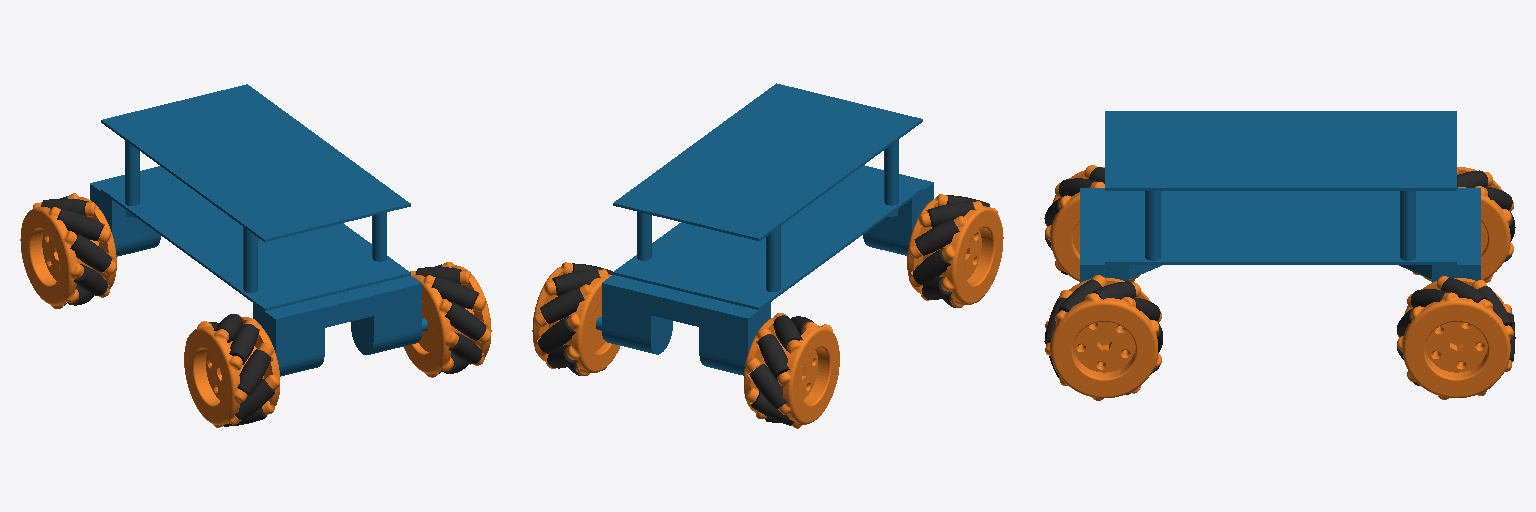
--- What the picture shows (computed from the rendered views, not written in the file) ---
The picture shows the robot from 3 angles, left to right: view 1: azimuth 30°, elevation 25°; view 2: azimuth 150°, elevation 25°; view 3: azimuth 270°, elevation 25°; orthographic projection.
Model examplo with 42 links and 41 joints (40 continuous, 1 fixed), rooted at base_link, posed every joint at zero.
Visible links, largest first — view 1: chassis_link, front_left_mecanum_link, rear_left_mecanum_link, rear_right_mecanum_link, rear_left_roller_4, rear_right_roller_4, front_left_roller_5, front_left_roller_6, rear_right_roller_3, rear_left_roller_5, rear_left_roller_3, front_left_roller_4 (+1 smaller); view 2: chassis_link, front_left_mecanum_link, rear_left_mecanum_link, front_right_mecanum_link, rear_left_roller_1, front_right_roller_8, front_left_roller_0, front_left_roller_8, front_right_roller_0, rear_left_roller_0, front_right_roller_7, rear_left_roller_2 (+1 smaller); view 3: chassis_link, front_right_mecanum_link, rear_right_mecanum_link, rear_left_mecanum_link, front_left_mecanum_link, front_right_roller_7, rear_right_roller_2.
Link boxes in pixels (x1,y1,x2,y2): chassis_link: (90, 84, 427, 376); front_left_mecanum_link: (20, 193, 116, 308); rear_left_mecanum_link: (184, 314, 279, 427); rear_right_mecanum_link: (404, 262, 491, 377); rear_left_roller_4: (237, 349, 270, 395); rear_right_roller_4: (445, 302, 485, 340); front_left_roller_5: (70, 234, 111, 271); front_left_roller_6: (58, 209, 102, 240); rear_right_roller_3: (432, 277, 477, 309); rear_left_roller_5: (235, 379, 274, 420); rear_left_roller_3: (229, 324, 258, 364); front_left_roller_4: (74, 264, 107, 295); chassis_link: (596, 83, 933, 375); front_left_mecanum_link: (744, 313, 839, 428); rear_left_mecanum_link: (907, 194, 1003, 307); front_right_mecanum_link: (532, 262, 619, 375); rear_left_roller_1: (915, 219, 959, 255); front_right_roller_8: (540, 287, 584, 323); front_left_roller_0: (749, 364, 786, 408); front_left_roller_8: (758, 334, 789, 379); front_right_roller_0: (538, 316, 575, 353); rear_left_roller_0: (913, 248, 950, 284); front_right_roller_7: (553, 269, 599, 295); rear_left_roller_2: (928, 201, 974, 227); chassis_link: (1080, 111, 1480, 282); front_right_mecanum_link: (1397, 276, 1513, 399); rear_right_mecanum_link: (1045, 275, 1161, 400); rear_left_mecanum_link: (1045, 165, 1139, 282); front_left_mecanum_link: (1412, 167, 1513, 282); front_right_roller_7: (1441, 278, 1487, 302); rear_right_roller_2: (1092, 281, 1135, 299).
Bounding box of the posed robot: 0.2661 × 0.3879 × 0.1699 m (x, y, z).
Meshes: 4 distinct files referenced, 41 mesh visuals loaded (3 binary STL, 1 ASCII STL).

The robot description file, URDF, robot "examplo":
<?xml version="1.0"?>
<!-- =================================================================================== -->
<!-- |    This document was autogenerated by xacro from [local-path]/examplo-ros2/install/robot_description/share/robot_description/urdf/robots/examplo.urdf.xacro | -->
<!-- |    EDITING THIS FILE BY HAND IS NOT RECOMMENDED                                 | -->
<!-- =================================================================================== -->
<robot name="examplo">
  <!-- Specify some standard inertial calculations https://en.wikipedia.org/wiki/List_of_moments_of_inertia -->
  <!-- These make use of xacro's mathematical functionality -->
  <material name="black">
    <color rgba="0.0 0.0 0.0 1.0" />
  </material>
  <material name="blue">
    <color rgba="0.13725490196078433 0.43137254901960786 0.5882352941176471 1.0" />
  </material>
  <material name="green">
    <color rgba="0.0 0.8 0.0 1.0" />
  </material>
  <material name="grey">
    <color rgba="0.2 0.2 0.2 1.0" />
  </material>
  <material name="yellow">
    <color rgba="1.0 0.8431372549019608 0.0 1" />
  </material>
  <material name="orange">
    <color rgba="0.9529411764705882 0.5294117647058824 0.1843137254901961 1" />
  </material>
  <material name="brown">
    <color rgba="0.8705882352941177 0.8117647058823529 0.7647058823529411 1.0" />
  </material>
  <material name="red">
    <color rgba="0.8 0.0 0.0 1.0" />
  </material>
  <material name="white">
    <color rgba="1.0 1.0 1.0 1.0" />
  </material>
  <material name="silver">
    <color rgba="0.700 0.700 0.700 1.000" />
  </material>
  <ros2_control name="examplo" type="system">
    <hardware>
      <plugin>robot_hardware/IsaacDriveHardware</plugin>
      <param name="example_param_hw_start_duration_sec">3.0</param>
      <param name="example_param_hw_stop_duration_sec">3.0</param>
    </hardware>
    <joint name="front_right_mecanum_joint">
      <command_interface name="velocity">
        <param name="min">-1</param>
        <param name="max">1</param>
      </command_interface>
      <state_interface name="position" />
      <state_interface name="velocity" />
    </joint>
    <joint name="rear_left_mecanum_joint">
      <command_interface name="velocity">
        <param name="min">-1</param>
        <param name="max">1</param>
      </command_interface>
      <state_interface name="position" />
      <state_interface name="velocity" />
    </joint>
    <joint name="front_left_mecanum_joint">
      <command_interface name="velocity">
        <param name="min">-1</param>
        <param name="max">1</param>
      </command_interface>
      <state_interface name="position" />
      <state_interface name="velocity" />
    </joint>
    <joint name="rear_right_mecanum_joint">
      <command_interface name="velocity">
        <param name="min">-1</param>
        <param name="max">1</param>
      </command_interface>
      <state_interface name="position" />
      <state_interface name="velocity" />
    </joint>
  </ros2_control>
  <link name="base_link" />
  <link name="chassis_link">
    <inertial>
      <origin rpy="0 0 0" xyz="0 0 -0.0675" />
      <mass value="2.45" />
      <inertia ixx="0.025954687500000004" ixy="0.0" ixz="0.0" iyy="0.0103359375" iyz="0.0" izz="0.028848750000000003" />
    </inertial>
    <visual>
      <origin rpy="0 0 0" xyz="0 0 0" />
      <geometry>
        <mesh filename="package://robot_description/meshes/chassis.stl" scale="0.001 0.001 0.001" />
      </geometry>
      <material name="blue" />
    </visual>
    <collision>
      <origin rpy="0 0 0" xyz="0 0 -0.0675" />
      <geometry>
        <box size="0.18 0.33 0.135" />
      </geometry>
    </collision>
  </link>
  <gazebo reference="chassis">
    <material>Gazebo/Blue</material>
  </gazebo>
  <joint name="chassis_joint" type="fixed">
    <parent link="base_link" />
    <child link="chassis_link" />
    <origin xyz="0 0 0" />
  </joint>
  <link name="front_right_mecanum_link">
    <inertial>
      <origin rpy="0 1.5707963267948966 0" xyz="0 0 0" />
      <mass value="0.136" />
      <inertia ixx="7.117696e-05" ixy="0.0" ixz="0.0" iyy="7.117696e-05" iyz="0.0" izz="0.00010236992" />
    </inertial>
    <visual>
      <origin rpy="0 0 0" xyz="0 0 0" />
      <geometry>
        <mesh filename="package://robot_description/meshes/mec_hub_1.stl" scale="0.001 0.001 0.001" />
      </geometry>
      <material name="orange" />
    </visual>
    <collision>
      <origin rpy="0 0 0" xyz="0 0 0" />
      <geometry>
        <cylinder length="0.042" radius="0.0388" />
      </geometry>
    </collision>
  </link>
  <joint name="front_right_mecanum_joint" type="continuous">
    <origin rpy="0 1.5707963267948966 0" xyz="0.108 0.145 -0.121" />
    <parent link="chassis_link" />
    <child link="front_right_mecanum_link" />
    <axis xyz="0.0 0.0 -1.0" />
  </joint>
  <link name="front_right_roller_0">
    <visual>
      <origin rpy="0 0 0" xyz="0 0 0" />
      <geometry>
        <mesh filename="package://robot_description/meshes/roller.stl" scale="0.001 0.001 0.001" />
      </geometry>
      <material name="grey" />
    </visual>
    <collision>
      <origin rpy="0 0 0" xyz="0 0 0" />
      <geometry>
        <sphere radius="0.0097" />
      </geometry>
    </collision>
    <collision>
      <origin rpy="0 0 0" xyz="0 0 0.00792" />
      <geometry>
        <sphere radius="0.00952" />
      </geometry>
    </collision>
    <collision>
      <origin rpy="0 0 0" xyz="0 0 -0.00792" />
      <geometry>
        <sphere radius="0.00952" />
      </geometry>
    </collision>
    <collision>
      <origin rpy="0 0 0" xyz="0 0 0.01584" />
      <geometry>
        <sphere radius="0.008985" />
      </geometry>
    </collision>
    <collision>
      <origin rpy="0 0 0" xyz="0 0 -0.01584" />
      <geometry>
        <sphere radius="0.008985" />
      </geometry>
    </collision>
  </link>
  <joint name="front_right_roller_0_joint" type="continuous">
    <origin rpy="0.0 0.7853981633974483 0" xyz="0.0 0.0388 0" />
    <parent link="front_right_mecanum_link" />
    <child link="front_right_roller_0" />
    <axis xyz="0.0 0.0 1.0" />
  </joint>
  <link name="front_right_roller_1">
    <visual>
      <origin rpy="0 0 0" xyz="0 0 0" />
      <geometry>
        <mesh filename="package://robot_description/meshes/roller.stl" scale="0.001 0.001 0.001" />
      </geometry>
      <material name="grey" />
    </visual>
    <collision>
      <origin rpy="0 0 0" xyz="0 0 0" />
      <geometry>
        <sphere radius="0.0097" />
      </geometry>
    </collision>
    <collision>
      <origin rpy="0 0 0" xyz="0 0 0.00792" />
      <geometry>
        <sphere radius="0.00952" />
      </geometry>
    </collision>
    <collision>
      <origin rpy="0 0 0" xyz="0 0 -0.00792" />
      <geometry>
        <sphere radius="0.00952" />
      </geometry>
    </collision>
    <collision>
      <origin rpy="0 0 0" xyz="0 0 0.01584" />
      <geometry>
        <sphere radius="0.008985" />
      </geometry>
    </collision>
    <collision>
      <origin rpy="0 0 0" xyz="0 0 -0.01584" />
      <geometry>
        <sphere radius="0.008985" />
      </geometry>
    </collision>
  </link>
  <joint name="front_right_roller_1_joint" type="continuous">
    <origin rpy="0.5048442081024438 0.6016498987064663 0" xyz="0.024940159255837722 0.02972252439301635 0" />
    <parent link="front_right_mecanum_link" />
    <child link="front_right_roller_1" />
    <axis xyz="0.0 0.0 1.0" />
  </joint>
  <link name="front_right_roller_2">
    <visual>
      <origin rpy="0 0 0" xyz="0 0 0" />
      <geometry>
        <mesh filename="package://robot_description/meshes/roller.stl" scale="0.001 0.001 0.001" />
      </geometry>
      <material name="grey" />
    </visual>
    <collision>
      <origin rpy="0 0 0" xyz="0 0 0" />
      <geometry>
        <sphere radius="0.0097" />
      </geometry>
    </collision>
    <collision>
      <origin rpy="0 0 0" xyz="0 0 0.00792" />
      <geometry>
        <sphere radius="0.00952" />
      </geometry>
    </collision>
    <collision>
      <origin rpy="0 0 0" xyz="0 0 -0.00792" />
      <geometry>
        <sphere radius="0.00952" />
      </geometry>
    </collision>
    <collision>
      <origin rpy="0 0 0" xyz="0 0 0.01584" />
      <geometry>
        <sphere radius="0.008985" />
      </geometry>
    </collision>
    <collision>
      <origin rpy="0 0 0" xyz="0 0 -0.01584" />
      <geometry>
        <sphere radius="0.008985" />
      </geometry>
    </collision>
  </link>
  <joint name="front_right_roller_2_joint" type="continuous">
    <origin rpy="0.7734662005153561 0.13638295981692095 0" xyz="0.038210540816873674 0.0067375492934769006 0" />
    <parent link="front_right_mecanum_link" />
    <child link="front_right_roller_2" />
    <axis xyz="0.0 0.0 1.0" />
  </joint>
  <link name="front_right_roller_3">
    <visual>
      <origin rpy="0 0 0" xyz="0 0 0" />
      <geometry>
        <mesh filename="package://robot_description/meshes/roller.stl" scale="0.001 0.001 0.001" />
      </geometry>
      <material name="grey" />
    </visual>
    <collision>
      <origin rpy="0 0 0" xyz="0 0 0" />
      <geometry>
        <sphere radius="0.0097" />
      </geometry>
    </collision>
    <collision>
      <origin rpy="0 0 0" xyz="0 0 0.00792" />
      <geometry>
        <sphere radius="0.00952" />
      </geometry>
    </collision>
    <collision>
      <origin rpy="0 0 0" xyz="0 0 -0.00792" />
      <geometry>
        <sphere radius="0.00952" />
      </geometry>
    </collision>
    <collision>
      <origin rpy="0 0 0" xyz="0 0 0.01584" />
      <geometry>
        <sphere radius="0.008985" />
      </geometry>
    </collision>
    <collision>
      <origin rpy="0 0 0" xyz="0 0 -0.01584" />
      <geometry>
        <sphere radius="0.008985" />
      </geometry>
    </collision>
  </link>
  <joint name="front_right_roller_3_joint" type="continuous">
    <origin rpy="0.6801747615878317 -0.392699081698724 0" xyz="0.03360178566683622 -0.019399999999999994 0" />
    <parent link="front_right_mecanum_link" />
    <child link="front_right_roller_3" />
    <axis xyz="0.0 0.0 1.0" />
  </joint>
  <link name="front_right_roller_4">
    <visual>
      <origin rpy="0 0 0" xyz="0 0 0" />
      <geometry>
        <mesh filename="package://robot_description/meshes/roller.stl" scale="0.001 0.001 0.001" />
      </geometry>
      <material name="grey" />
    </visual>
    <collision>
      <origin rpy="0 0 0" xyz="0 0 0" />
      <geometry>
        <sphere radius="0.0097" />
      </geometry>
    </collision>
    <collision>
      <origin rpy="0 0 0" xyz="0 0 0.00792" />
      <geometry>
        <sphere radius="0.00952" />
      </geometry>
    </collision>
    <collision>
      <origin rpy="0 0 0" xyz="0 0 -0.00792" />
      <geometry>
        <sphere radius="0.00952" />
      </geometry>
    </collision>
    <collision>
      <origin rpy="0 0 0" xyz="0 0 0.01584" />
      <geometry>
        <sphere radius="0.008985" />
      </geometry>
    </collision>
    <collision>
      <origin rpy="0 0 0" xyz="0 0 -0.01584" />
      <geometry>
        <sphere radius="0.008985" />
      </geometry>
    </collision>
  </link>
  <joint name="front_right_roller_4_joint" type="continuous">
    <origin rpy="0.26862199241291235 -0.7380328585233872 0" xyz="0.013270381561035953 -0.03646007368649325 0" />
    <parent link="front_right_mecanum_link" />
    <child link="front_right_roller_4" />
    <axis xyz="0.0 0.0 1.0" />
  </joint>
  <link name="front_right_roller_5">
    <visual>
      <origin rpy="0 0 0" xyz="0 0 0" />
      <geometry>
        <mesh filename="package://robot_description/meshes/roller.stl" scale="0.001 0.001 0.001" />
      </geometry>
      <material name="grey" />
    </visual>
    <collision>
      <origin rpy="0 0 0" xyz="0 0 0" />
      <geometry>
        <sphere radius="0.0097" />
      </geometry>
    </collision>
    <collision>
      <origin rpy="0 0 0" xyz="0 0 0.00792" />
      <geometry>
        <sphere radius="0.00952" />
      </geometry>
    </collision>
    <collision>
      <origin rpy="0 0 0" xyz="0 0 -0.00792" />
      <geometry>
        <sphere radius="0.00952" />
      </geometry>
    </collision>
    <collision>
      <origin rpy="0 0 0" xyz="0 0 0.01584" />
      <geometry>
        <sphere radius="0.008985" />
      </geometry>
    </collision>
    <collision>
      <origin rpy="0 0 0" xyz="0 0 -0.01584" />
      <geometry>
        <sphere radius="0.008985" />
      </geometry>
    </collision>
  </link>
  <joint name="front_right_roller_5_joint" type="continuous">
    <origin rpy="-0.2686219924129122 -0.7380328585233873 0" xyz="-0.013270381561035945 -0.03646007368649325 0" />
    <parent link="front_right_mecanum_link" />
    <child link="front_right_roller_5" />
    <axis xyz="0.0 0.0 1.0" />
  </joint>
  <link name="front_right_roller_6">
    <visual>
      <origin rpy="0 0 0" xyz="0 0 0" />
      <geometry>
        <mesh filename="package://robot_description/meshes/roller.stl" scale="0.001 0.001 0.001" />
      </geometry>
      <material name="grey" />
    </visual>
    <collision>
      <origin rpy="0 0 0" xyz="0 0 0" />
      <geometry>
        <sphere radius="0.0097" />
      </geometry>
    </collision>
    <collision>
      <origin rpy="0 0 0" xyz="0 0 0.00792" />
      <geometry>
        <sphere radius="0.00952" />
      </geometry>
    </collision>
    <collision>
      <origin rpy="0 0 0" xyz="0 0 -0.00792" />
      <geometry>
        <sphere radius="0.00952" />
      </geometry>
    </collision>
    <collision>
      <origin rpy="0 0 0" xyz="0 0 0.01584" />
      <geometry>
        <sphere radius="0.008985" />
      </geometry>
    </collision>
    <collision>
      <origin rpy="0 0 0" xyz="0 0 -0.01584" />
      <geometry>
        <sphere radius="0.008985" />
      </geometry>
    </collision>
  </link>
  <joint name="front_right_roller_6_joint" type="continuous">
    <origin rpy="-0.6801747615878314 -0.3926990816987245 0" xyz="-0.03360178566683621 -0.019400000000000018 0" />
    <parent link="front_right_mecanum_link" />
    <child link="front_right_roller_6" />
    <axis xyz="0.0 0.0 1.0" />
  </joint>
  <link name="front_right_roller_7">
    <visual>
      <origin rpy="0 0 0" xyz="0 0 0" />
      <geometry>
        <mesh filename="package://robot_description/meshes/roller.stl" scale="0.001 0.001 0.001" />
      </geometry>
      <material name="grey" />
    </visual>
    <collision>
      <origin rpy="0 0 0" xyz="0 0 0" />
      <geometry>
        <sphere radius="0.0097" />
      </geometry>
    </collision>
    <collision>
      <origin rpy="0 0 0" xyz="0 0 0.00792" />
      <geometry>
        <sphere radius="0.00952" />
      </geometry>
    </collision>
    <collision>
      <origin rpy="0 0 0" xyz="0 0 -0.00792" />
      <geometry>
        <sphere radius="0.00952" />
      </geometry>
    </collision>
    <collision>
      <origin rpy="0 0 0" xyz="0 0 0.01584" />
      <geometry>
        <sphere radius="0.008985" />
      </geometry>
    </collision>
    <collision>
      <origin rpy="0 0 0" xyz="0 0 -0.01584" />
      <geometry>
        <sphere radius="0.008985" />
      </geometry>
    </collision>
  </link>
  <joint name="front_right_roller_7_joint" type="continuous">
    <origin rpy="-0.7734662005153561 0.13638295981692058 0" xyz="-0.038210540816873674 0.006737549293476883 0" />
    <parent link="front_right_mecanum_link" />
    <child link="front_right_roller_7" />
    <axis xyz="0.0 0.0 1.0" />
  </joint>
  <link name="front_right_roller_8">
    <visual>
      <origin rpy="0 0 0" xyz="0 0 0" />
      <geometry>
        <mesh filename="package://robot_description/meshes/roller.stl" scale="0.001 0.001 0.001" />
      </geometry>
      <material name="grey" />
    </visual>
    <collision>
      <origin rpy="0 0 0" xyz="0 0 0" />
      <geometry>
        <sphere radius="0.0097" />
      </geometry>
    </collision>
    <collision>
      <origin rpy="0 0 0" xyz="0 0 0.00792" />
      <geometry>
        <sphere radius="0.00952" />
      </geometry>
    </collision>
    <collision>
      <origin rpy="0 0 0" xyz="0 0 -0.00792" />
      <geometry>
        <sphere radius="0.00952" />
      </geometry>
    </collision>
    <collision>
      <origin rpy="0 0 0" xyz="0 0 0.01584" />
      <geometry>
        <sphere radius="0.008985" />
      </geometry>
    </collision>
    <collision>
      <origin rpy="0 0 0" xyz="0 0 -0.01584" />
      <geometry>
        <sphere radius="0.008985" />
      </geometry>
    </collision>
  </link>
  <joint name="front_right_roller_8_joint" type="continuous">
    <origin rpy="-0.504844208102444 0.6016498987064662 0" xyz="-0.024940159255837736 0.02972252439301634 0" />
    <parent link="front_right_mecanum_link" />
    <child link="front_right_roller_8" />
    <axis xyz="0.0 0.0 1.0" />
  </joint>
  <link name="rear_left_mecanum_link">
    <inertial>
      <origin rpy="0 1.5707963267948966 0" xyz="0 0 0" />
      <mass value="0.136" />
      <inertia ixx="7.117696e-05" ixy="0.0" ixz="0.0" iyy="7.117696e-05" iyz="0.0" izz="0.00010236992" />
    </inertial>
    <visual>
      <origin rpy="0 0 0" xyz="0 0 0" />
      <geometry>
        <mesh filename="package://robot_description/meshes/mec_hub_1.stl" scale="0.001 0.001 0.001" />
      </geometry>
      <material name="orange" />
    </visual>
    <collision>
      <origin rpy="0 0 0" xyz="0 0 0" />
      <geometry>
        <cylinder length="0.042" radius="0.0388" />
      </geometry>
    </collision>
  </link>
  <joint name="rear_left_mecanum_joint" type="continuous">
    <origin rpy="0 -1.5707963267948966 0" xyz="-0.108 -0.145 -0.121" />
    <parent link="chassis_link" />
    <child link="rear_left_mecanum_link" />
    <axis xyz="0.0 0.0 1.0" />
  </joint>
  <link name="rear_left_roller_0">
    <visual>
      <origin rpy="0 0 0" xyz="0 0 0" />
      <geometry>
        <mesh filename="package://robot_description/meshes/roller.stl" scale="0.001 0.001 0.001" />
      </geometry>
      <material name="grey" />
    </visual>
    <collision>
      <origin rpy="0 0 0" xyz="0 0 0" />
      <geometry>
        <sphere radius="0.0097" />
      </geometry>
    </collision>
    <collision>
      <origin rpy="0 0 0" xyz="0 0 0.00792" />
      <geometry>
        <sphere radius="0.00952" />
      </geometry>
    </collision>
    <collision>
      <origin rpy="0 0 0" xyz="0 0 -0.00792" />
      <geometry>
        <sphere radius="0.00952" />
      </geometry>
    </collision>
    <collision>
      <origin rpy="0 0 0" xyz="0 0 0.01584" />
      <geometry>
        <sphere radius="0.008985" />
      </geometry>
    </collision>
    <collision>
      <origin rpy="0 0 0" xyz="0 0 -0.01584" />
      <geometry>
        <sphere radius="0.008985" />
      </geometry>
    </collision>
  </link>
  <joint name="rear_left_roller_0_joint" type="continuous">
    <origin rpy="0.0 0.7853981633974483 0" xyz="0.0 0.0388 0" />
    <parent link="rear_left_mecanum_link" />
    <child link="rear_left_roller_0" />
    <axis xyz="0.0 0.0 1.0" />
  </joint>
  <link name="rear_left_roller_1">
    <visual>
      <origin rpy="0 0 0" xyz="0 0 0" />
      <geometry>
        <mesh filename="package://robot_description/meshes/roller.stl" scale="0.001 0.001 0.001" />
      </geometry>
      <material name="grey" />
    </visual>
    <collision>
      <origin rpy="0 0 0" xyz="0 0 0" />
      <geometry>
        <sphere radius="0.0097" />
      </geometry>
    </collision>
    <collision>
      <origin rpy="0 0 0" xyz="0 0 0.00792" />
      <geometry>
        <sphere radius="0.00952" />
      </geometry>
    </collision>
    <collision>
      <origin rpy="0 0 0" xyz="0 0 -0.00792" />
      <geometry>
        <sphere radius="0.00952" />
      </geometry>
    </collision>
    <collision>
      <origin rpy="0 0 0" xyz="0 0 0.01584" />
      <geometry>
        <sphere radius="0.008985" />
      </geometry>
    </collision>
    <collision>
      <origin rpy="0 0 0" xyz="0 0 -0.01584" />
      <geometry>
        <sphere radius="0.008985" />
      </geometry>
    </collision>
  </link>
  <joint name="rear_left_roller_1_joint" type="continuous">
    <origin rpy="0.5048442081024438 0.6016498987064663 0" xyz="0.024940159255837722 0.02972252439301635 0" />
    <parent link="rear_left_mecanum_link" />
    <child link="rear_left_roller_1" />
    <axis xyz="0.0 0.0 1.0" />
  </joint>
  <link name="rear_left_roller_2">
    <visual>
      <origin rpy="0 0 0" xyz="0 0 0" />
      <geometry>
        <mesh filename="package://robot_description/meshes/roller.stl" scale="0.001 0.001 0.001" />
      </geometry>
      <material name="grey" />
    </visual>
    <collision>
      <origin rpy="0 0 0" xyz="0 0 0" />
      <geometry>
        <sphere radius="0.0097" />
      </geometry>
    </collision>
    <collision>
      <origin rpy="0 0 0" xyz="0 0 0.00792" />
      <geometry>
        <sphere radius="0.00952" />
      </geometry>
    </collision>
    <collision>
      <origin rpy="0 0 0" xyz="0 0 -0.00792" />
      <geometry>
        <sphere radius="0.00952" />
      </geometry>
    </collision>
    <collision>
      <origin rpy="0 0 0" xyz="0 0 0.01584" />
      <geometry>
        <sphere radius="0.008985" />
      </geometry>
    </collision>
    <collision>
      <origin rpy="0 0 0" xyz="0 0 -0.01584" />
      <geometry>
        <sphere radius="0.008985" />
      </geometry>
    </collision>
  </link>
  <joint name="rear_left_roller_2_joint" type="continuous">
    <origin rpy="0.7734662005153561 0.13638295981692095 0" xyz="0.038210540816873674 0.0067375492934769006 0" />
    <parent link="rear_left_mecanum_link" />
    <child link="rear_left_roller_2" />
    <axis xyz="0.0 0.0 1.0" />
  </joint>
  <link name="rear_left_roller_3">
    <visual>
      <origin rpy="0 0 0" xyz="0 0 0" />
      <geometry>
        <mesh filename="package://robot_description/meshes/roller.stl" scale="0.001 0.001 0.001" />
      </geometry>
      <material name="grey" />
    </visual>
    <collision>
      <origin rpy="0 0 0" xyz="0 0 0" />
      <geometry>
        <sphere radius="0.0097" />
      </geometry>
    </collision>
    <collision>
      <origin rpy="0 0 0" xyz="0 0 0.00792" />
      <geometry>
        <sphere radius="0.00952" />
      </geometry>
    </collision>
    <collision>
      <origin rpy="0 0 0" xyz="0 0 -0.00792" />
      <geometry>
        <sphere radius="0.00952" />
      </geometry>
    </collision>
    <collision>
      <origin rpy="0 0 0" xyz="0 0 0.01584" />
      <geometry>
        <sphere radius="0.008985" />
      </geometry>
    </collision>
    <collision>
      <origin rpy="0 0 0" xyz="0 0 -0.01584" />
      <geometry>
        <sphere radius="0.008985" />
      </geometry>
    </collision>
  </link>
  <joint name="rear_left_roller_3_joint" type="continuous">
    <origin rpy="0.6801747615878317 -0.392699081698724 0" xyz="0.03360178566683622 -0.019399999999999994 0" />
    <parent link="rear_left_mecanum_link" />
    <child link="rear_left_roller_3" />
    <axis xyz="0.0 0.0 1.0" />
  </joint>
  <link name="rear_left_roller_4">
    <visual>
      <origin rpy="0 0 0" xyz="0 0 0" />
      <geometry>
        <mesh filename="package://robot_description/meshes/roller.stl" scale="0.001 0.001 0.001" />
      </geometry>
      <material name="grey" />
    </visual>
    <collision>
      <origin rpy="0 0 0" xyz="0 0 0" />
      <geometry>
        <sphere radius="0.0097" />
      </geometry>
    </collision>
    <collision>
      <origin rpy="0 0 0" xyz="0 0 0.00792" />
      <geometry>
        <sphere radius="0.00952" />
      </geometry>
    </collision>
    <collision>
      <origin rpy="0 0 0" xyz="0 0 -0.00792" />
      <geometry>
        <sphere radius="0.00952" />
      </geometry>
    </collision>
    <collision>
      <origin rpy="0 0 0" xyz="0 0 0.01584" />
      <geometry>
        <sphere radius="0.008985" />
      </geometry>
    </collision>
    <collision>
      <origin rpy="0 0 0" xyz="0 0 -0.01584" />
      <geometry>
        <sphere radius="0.008985" />
      </geometry>
    </collision>
  </link>
  <joint name="rear_left_roller_4_joint" type="continuous">
    <origin rpy="0.26862199241291235 -0.7380328585233872 0" xyz="0.013270381561035953 -0.03646007368649325 0" />
    <parent link="rear_left_mecanum_link" />
    <child link="rear_left_roller_4" />
    <axis xyz="0.0 0.0 1.0" />
  </joint>
  <link name="rear_left_roller_5">
    <visual>
      <origin rpy="0 0 0" xyz="0 0 0" />
      <geometry>
        <mesh filename="package://robot_description/meshes/roller.stl" scale="0.001 0.001 0.001" />
      </geometry>
      <material name="grey" />
    </visual>
    <collision>
      <origin rpy="0 0 0" xyz="0 0 0" />
      <geometry>
        <sphere radius="0.0097" />
      </geometry>
    </collision>
    <collision>
      <origin rpy="0 0 0" xyz="0 0 0.00792" />
      <geometry>
        <sphere radius="0.00952" />
      </geometry>
    </collision>
    <collision>
      <origin rpy="0 0 0" xyz="0 0 -0.00792" />
      <geometry>
        <sphere radius="0.00952" />
      </geometry>
    </collision>
    <collision>
      <origin rpy="0 0 0" xyz="0 0 0.01584" />
      <geometry>
        <sphere radius="0.008985" />
      </geometry>
    </collision>
    <collision>
      <origin rpy="0 0 0" xyz="0 0 -0.01584" />
      <geometry>
        <sphere radius="0.008985" />
      </geometry>
    </collision>
  </link>
  <joint name="rear_left_roller_5_joint" type="continuous">
    <origin rpy="-0.2686219924129122 -0.7380328585233873 0" xyz="-0.013270381561035945 -0.03646007368649325 0" />
    <parent link="rear_left_mecanum_link" />
    <child link="rear_left_roller_5" />
    <axis xyz="0.0 0.0 1.0" />
  </joint>
  <link name="rear_left_roller_6">
    <visual>
      <origin rpy="0 0 0" xyz="0 0 0" />
      <geometry>
        <mesh filename="package://robot_description/meshes/roller.stl" scale="0.001 0.001 0.001" />
      </geometry>
      <material name="grey" />
    </visual>
    <collision>
      <origin rpy="0 0 0" xyz="0 0 0" />
      <geometry>
        <sphere radius="0.0097" />
      </geometry>
    </collision>
    <collision>
      <origin rpy="0 0 0" xyz="0 0 0.00792" />
      <geometry>
        <sphere radius="0.00952" />
      </geometry>
    </collision>
    <collision>
      <origin rpy="0 0 0" xyz="0 0 -0.00792" />
      <geometry>
        <sphere radius="0.00952" />
      </geometry>
    </collision>
    <collision>
      <origin rpy="0 0 0" xyz="0 0 0.01584" />
      <geometry>
        <sphere radius="0.008985" />
      </geometry>
    </collision>
    <collision>
      <origin rpy="0 0 0" xyz="0 0 -0.01584" />
      <geometry>
        <sphere radius="0.008985" />
      </geometry>
    </collision>
  </link>
  <joint name="rear_left_roller_6_joint" type="continuous">
    <origin rpy="-0.6801747615878314 -0.3926990816987245 0" xyz="-0.03360178566683621 -0.019400000000000018 0" />
    <parent link="rear_left_mecanum_link" />
    <child link="rear_left_roller_6" />
    <axis xyz="0.0 0.0 1.0" />
  </joint>
  <link name="rear_left_roller_7">
    <visual>
      <origin rpy="0 0 0" xyz="0 0 0" />
      <geometry>
        <mesh filename="package://robot_description/meshes/roller.stl" scale="0.001 0.001 0.001" />
      </geometry>
      <material name="grey" />
    </visual>
    <collision>
      <origin rpy="0 0 0" xyz="0 0 0" />
      <geometry>
        <sphere radius="0.0097" />
      </geometry>
    </collision>
    <collision>
      <origin rpy="0 0 0" xyz="0 0 0.00792" />
      <geometry>
        <sphere radius="0.00952" />
      </geometry>
    </collision>
    <collision>
      <origin rpy="0 0 0" xyz="0 0 -0.00792" />
      <geometry>
        <sphere radius="0.00952" />
      </geometry>
    </collision>
    <collision>
      <origin rpy="0 0 0" xyz="0 0 0.01584" />
      <geometry>
        <sphere radius="0.008985" />
      </geometry>
    </collision>
    <collision>
      <origin rpy="0 0 0" xyz="0 0 -0.01584" />
      <geometry>
        <sphere radius="0.008985" />
      </geometry>
    </collision>
  </link>
  <joint name="rear_left_roller_7_joint" type="continuous">
    <origin rpy="-0.7734662005153561 0.13638295981692058 0" xyz="-0.038210540816873674 0.006737549293476883 0" />
    <parent link="rear_left_mecanum_link" />
    <child link="rear_left_roller_7" />
    <axis xyz="0.0 0.0 1.0" />
  </joint>
  <link name="rear_left_roller_8">
    <visual>
      <origin rpy="0 0 0" xyz="0 0 0" />
      <geometry>
        <mesh filename="package://robot_description/meshes/roller.stl" scale="0.001 0.001 0.001" />
      </geometry>
      <material name="grey" />
    </visual>
    <collision>
      <origin rpy="0 0 0" xyz="0 0 0" />
      <geometry>
        <sphere radius="0.0097" />
      </geometry>
    </collision>
    <collision>
      <origin rpy="0 0 0" xyz="0 0 0.00792" />
      <geometry>
        <sphere radius="0.00952" />
      </geometry>
    </collision>
    <collision>
      <origin rpy="0 0 0" xyz="0 0 -0.00792" />
      <geometry>
        <sphere radius="0.00952" />
      </geometry>
    </collision>
    <collision>
      <origin rpy="0 0 0" xyz="0 0 0.01584" />
      <geometry>
        <sphere radius="0.008985" />
      </geometry>
    </collision>
    <collision>
      <origin rpy="0 0 0" xyz="0 0 -0.01584" />
      <geometry>
        <sphere radius="0.008985" />
      </geometry>
    </collision>
  </link>
  <joint name="rear_left_roller_8_joint" type="continuous">
    <origin rpy="-0.504844208102444 0.6016498987064662 0" xyz="-0.024940159255837736 0.02972252439301634 0" />
    <parent link="rear_left_mecanum_link" />
    <child link="rear_left_roller_8" />
    <axis xyz="0.0 0.0 1.0" />
  </joint>
  <link name="front_left_mecanum_link">
    <inertial>
      <origin rpy="0 1.5707963267948966 0" xyz="0 0 0" />
      <mass value="0.136" />
      <inertia ixx="7.117696e-05" ixy="0.0" ixz="0.0" iyy="7.117696e-05" iyz="0.0" izz="0.00010236992" />
    </inertial>
    <visual>
      <origin rpy="0 0 0" xyz="0 0 0" />
      <geometry>
        <mesh filename="package://robot_description/meshes/mec_hub_2.stl" scale="0.001 0.001 0.001" />
      </geometry>
      <material name="orange" />
    </visual>
    <collision>
      <origin rpy="0 0 0" xyz="0 0 0" />
      <geometry>
        <cylinder length="0.042" radius="0.0388" />
      </geometry>
    </collision>
  </link>
  <joint name="front_left_mecanum_joint" type="continuous">
    <origin rpy="0 1.5707963267948966 0" xyz="-0.108 0.145 -0.121" />
    <parent link="chassis_link" />
    <child link="front_left_mecanum_link" />
    <axis xyz="0.0 0.0 -1.0" />
  </joint>
  <link name="front_left_roller_0">
    <visual>
      <origin rpy="0 0 0" xyz="0 0 0" />
      <geometry>
        <mesh filename="package://robot_description/meshes/roller.stl" scale="0.001 0.001 0.001" />
      </geometry>
      <material name="grey" />
    </visual>
    <collision>
      <origin rpy="0 0 0" xyz="0 0 0" />
      <geometry>
        <sphere radius="0.0097" />
      </geometry>
    </collision>
    <collision>
      <origin rpy="0 0 0" xyz="0 0 0.00792" />
      <geometry>
        <sphere radius="0.00952" />
      </geometry>
    </collision>
    <collision>
      <origin rpy="0 0 0" xyz="0 0 -0.00792" />
      <geometry>
        <sphere radius="0.00952" />
      </geometry>
    </collision>
    <collision>
      <origin rpy="0 0 0" xyz="0 0 0.01584" />
      <geometry>
        <sphere radius="0.008985" />
      </geometry>
    </collision>
    <collision>
      <origin rpy="0 0 0" xyz="0 0 -0.01584" />
      <geometry>
        <sphere radius="0.008985" />
      </geometry>
    </collision>
  </link>
  <joint name="front_left_roller_0_joint" type="continuous">
    <origin rpy="-0.0 -0.7853981633974483 0" xyz="0.0 0.0388 0" />
    <parent link="front_left_mecanum_link" />
    <child link="front_left_roller_0" />
    <axis xyz="0.0 0.0 1.0" />
  </joint>
  <link name="front_left_roller_1">
    <visual>
      <origin rpy="0 0 0" xyz="0 0 0" />
      <geometry>
        <mesh filename="package://robot_description/meshes/roller.stl" scale="0.001 0.001 0.001" />
      </geometry>
      <material name="grey" />
    </visual>
    <collision>
      <origin rpy="0 0 0" xyz="0 0 0" />
      <geometry>
        <sphere radius="0.0097" />
      </geometry>
    </collision>
    <collision>
      <origin rpy="0 0 0" xyz="0 0 0.00792" />
      <geometry>
        <sphere radius="0.00952" />
      </geometry>
    </collision>
    <collision>
      <origin rpy="0 0 0" xyz="0 0 -0.00792" />
      <geometry>
        <sphere radius="0.00952" />
      </geometry>
    </collision>
    <collision>
      <origin rpy="0 0 0" xyz="0 0 0.01584" />
      <geometry>
        <sphere radius="0.008985" />
      </geometry>
    </collision>
    <collision>
      <origin rpy="0 0 0" xyz="0 0 -0.01584" />
      <geometry>
        <sphere radius="0.008985" />
      </geometry>
    </collision>
  </link>
  <joint name="front_left_roller_1_joint" type="continuous">
    <origin rpy="-0.5048442081024438 -0.6016498987064663 0" xyz="0.024940159255837722 0.02972252439301635 0" />
    <parent link="front_left_mecanum_link" />
    <child link="front_left_roller_1" />
    <axis xyz="0.0 0.0 1.0" />
  </joint>
  <link name="front_left_roller_2">
    <visual>
      <origin rpy="0 0 0" xyz="0 0 0" />
      <geometry>
        <mesh filename="package://robot_description/meshes/roller.stl" scale="0.001 0.001 0.001" />
      </geometry>
      <material name="grey" />
    </visual>
    <collision>
      <origin rpy="0 0 0" xyz="0 0 0" />
      <geometry>
        <sphere radius="0.0097" />
      </geometry>
    </collision>
    <collision>
      <origin rpy="0 0 0" xyz="0 0 0.00792" />
      <geometry>
        <sphere radius="0.00952" />
      </geometry>
    </collision>
    <collision>
      <origin rpy="0 0 0" xyz="0 0 -0.00792" />
      <geometry>
        <sphere radius="0.00952" />
      </geometry>
    </collision>
    <collision>
      <origin rpy="0 0 0" xyz="0 0 0.01584" />
      <geometry>
        <sphere radius="0.008985" />
      </geometry>
    </collision>
    <collision>
      <origin rpy="0 0 0" xyz="0 0 -0.01584" />
      <geometry>
        <sphere radius="0.008985" />
      </geometry>
    </collision>
  </link>
  <joint name="front_left_roller_2_joint" type="continuous">
    <origin rpy="-0.7734662005153561 -0.13638295981692095 0" xyz="0.038210540816873674 0.0067375492934769006 0" />
    <parent link="front_left_mecanum_link" />
    <child link="front_left_roller_2" />
    <axis xyz="0.0 0.0 1.0" />
  </joint>
  <link name="front_left_roller_3">
    <visual>
      <origin rpy="0 0 0" xyz="0 0 0" />
      <geometry>
        <mesh filename="package://robot_description/meshes/roller.stl" scale="0.001 0.001 0.001" />
      </geometry>
      <material name="grey" />
    </visual>
    <collision>
      <origin rpy="0 0 0" xyz="0 0 0" />
      <geometry>
        <sphere radius="0.0097" />
      </geometry>
    </collision>
    <collision>
      <origin rpy="0 0 0" xyz="0 0 0.00792" />
      <geometry>
        <sphere radius="0.00952" />
      </geometry>
    </collision>
    <collision>
      <origin rpy="0 0 0" xyz="0 0 -0.00792" />
      <geometry>
        <sphere radius="0.00952" />
      </geometry>
    </collision>
    <collision>
      <origin rpy="0 0 0" xyz="0 0 0.01584" />
      <geometry>
        <sphere radius="0.008985" />
      </geometry>
    </collision>
    <collision>
      <origin rpy="0 0 0" xyz="0 0 -0.01584" />
      <geometry>
        <sphere radius="0.008985" />
      </geometry>
    </collision>
  </link>
  <joint name="front_left_roller_3_joint" type="continuous">
    <origin rpy="-0.6801747615878317 0.392699081698724 0" xyz="0.03360178566683622 -0.019399999999999994 0" />
    <parent link="front_left_mecanum_link" />
    <child link="front_left_roller_3" />
    <axis xyz="0.0 0.0 1.0" />
  </joint>
  <link name="front_left_roller_4">
    <visual>
      <origin rpy="0 0 0" xyz="0 0 0" />
      <geometry>
        <mesh filename="package://robot_description/meshes/roller.stl" scale="0.001 0.001 0.001" />
      </geometry>
      <material name="grey" />
    </visual>
    <collision>
      <origin rpy="0 0 0" xyz="0 0 0" />
      <geometry>
        <sphere radius="0.0097" />
      </geometry>
    </collision>
    <collision>
      <origin rpy="0 0 0" xyz="0 0 0.00792" />
      <geometry>
        <sphere radius="0.00952" />
      </geometry>
    </collision>
    <collision>
      <origin rpy="0 0 0" xyz="0 0 -0.00792" />
      <geometry>
        <sphere radius="0.00952" />
      </geometry>
    </collision>
    <collision>
      <origin rpy="0 0 0" xyz="0 0 0.01584" />
      <geometry>
        <sphere radius="0.008985" />
      </geometry>
    </collision>
    <collision>
      <origin rpy="0 0 0" xyz="0 0 -0.01584" />
      <geometry>
        <sphere radius="0.008985" />
      </geometry>
    </collision>
  </link>
  <joint name="front_left_roller_4_joint" type="continuous">
    <origin rpy="-0.26862199241291235 0.7380328585233872 0" xyz="0.013270381561035953 -0.03646007368649325 0" />
    <parent link="front_left_mecanum_link" />
    <child link="front_left_roller_4" />
    <axis xyz="0.0 0.0 1.0" />
  </joint>
  <link name="front_left_roller_5">
    <visual>
      <origin rpy="0 0 0" xyz="0 0 0" />
      <geometry>
        <mesh filename="package://robot_description/meshes/roller.stl" scale="0.001 0.001 0.001" />
      </geometry>
      <material name="grey" />
    </visual>
    <collision>
      <origin rpy="0 0 0" xyz="0 0 0" />
      <geometry>
        <sphere radius="0.0097" />
      </geometry>
    </collision>
    <collision>
      <origin rpy="0 0 0" xyz="0 0 0.00792" />
      <geometry>
        <sphere radius="0.00952" />
      </geometry>
    </collision>
    <collision>
      <origin rpy="0 0 0" xyz="0 0 -0.00792" />
      <geometry>
        <sphere radius="0.00952" />
      </geometry>
    </collision>
    <collision>
      <origin rpy="0 0 0" xyz="0 0 0.01584" />
      <geometry>
        <sphere radius="0.008985" />
      </geometry>
    </collision>
    <collision>
      <origin rpy="0 0 0" xyz="0 0 -0.01584" />
      <geometry>
        <sphere radius="0.008985" />
      </geometry>
    </collision>
  </link>
  <joint name="front_left_roller_5_joint" type="continuous">
    <origin rpy="0.2686219924129122 0.7380328585233873 0" xyz="-0.013270381561035945 -0.03646007368649325 0" />
    <parent link="front_left_mecanum_link" />
    <child link="front_left_roller_5" />
    <axis xyz="0.0 0.0 1.0" />
  </joint>
  <link name="front_left_roller_6">
    <visual>
      <origin rpy="0 0 0" xyz="0 0 0" />
      <geometry>
        <mesh filename="package://robot_description/meshes/roller.stl" scale="0.001 0.001 0.001" />
      </geometry>
      <material name="grey" />
    </visual>
    <collision>
      <origin rpy="0 0 0" xyz="0 0 0" />
      <geometry>
        <sphere radius="0.0097" />
      </geometry>
    </collision>
    <collision>
      <origin rpy="0 0 0" xyz="0 0 0.00792" />
      <geometry>
        <sphere radius="0.00952" />
      </geometry>
    </collision>
    <collision>
      <origin rpy="0 0 0" xyz="0 0 -0.00792" />
      <geometry>
        <sphere radius="0.00952" />
      </geometry>
    </collision>
    <collision>
      <origin rpy="0 0 0" xyz="0 0 0.01584" />
      <geometry>
        <sphere radius="0.008985" />
      </geometry>
    </collision>
    <collision>
      <origin rpy="0 0 0" xyz="0 0 -0.01584" />
      <geometry>
        <sphere radius="0.008985" />
      </geometry>
    </collision>
  </link>
  <joint name="front_left_roller_6_joint" type="continuous">
    <origin rpy="0.6801747615878314 0.3926990816987245 0" xyz="-0.03360178566683621 -0.019400000000000018 0" />
    <parent link="front_left_mecanum_link" />
    <child link="front_left_roller_6" />
    <axis xyz="0.0 0.0 1.0" />
  </joint>
  <link name="front_left_roller_7">
    <visual>
      <origin rpy="0 0 0" xyz="0 0 0" />
      <geometry>
        <mesh filename="package://robot_description/meshes/roller.stl" scale="0.001 0.001 0.001" />
      </geometry>
      <material name="grey" />
    </visual>
    <collision>
      <origin rpy="0 0 0" xyz="0 0 0" />
      <geometry>
        <sphere radius="0.0097" />
      </geometry>
    </collision>
    <collision>
      <origin rpy="0 0 0" xyz="0 0 0.00792" />
      <geometry>
        <sphere radius="0.00952" />
      </geometry>
    </collision>
    <collision>
      <origin rpy="0 0 0" xyz="0 0 -0.00792" />
      <geometry>
        <sphere radius="0.00952" />
      </geometry>
    </collision>
    <collision>
      <origin rpy="0 0 0" xyz="0 0 0.01584" />
      <geometry>
        <sphere radius="0.008985" />
      </geometry>
    </collision>
    <collision>
      <origin rpy="0 0 0" xyz="0 0 -0.01584" />
      <geometry>
        <sphere radius="0.008985" />
      </geometry>
    </collision>
  </link>
  <joint name="front_left_roller_7_joint" type="continuous">
    <origin rpy="0.7734662005153561 -0.13638295981692058 0" xyz="-0.038210540816873674 0.006737549293476883 0" />
    <parent link="front_left_mecanum_link" />
    <child link="front_left_roller_7" />
    <axis xyz="0.0 0.0 1.0" />
  </joint>
  <link name="front_left_roller_8">
    <visual>
      <origin rpy="0 0 0" xyz="0 0 0" />
      <geometry>
        <mesh filename="package://robot_description/meshes/roller.stl" scale="0.001 0.001 0.001" />
      </geometry>
      <material name="grey" />
    </visual>
    <collision>
      <origin rpy="0 0 0" xyz="0 0 0" />
      <geometry>
        <sphere radius="0.0097" />
      </geometry>
    </collision>
    <collision>
      <origin rpy="0 0 0" xyz="0 0 0.00792" />
      <geometry>
        <sphere radius="0.00952" />
      </geometry>
    </collision>
    <collision>
      <origin rpy="0 0 0" xyz="0 0 -0.00792" />
      <geometry>
        <sphere radius="0.00952" />
      </geometry>
    </collision>
    <collision>
      <origin rpy="0 0 0" xyz="0 0 0.01584" />
      <geometry>
        <sphere radius="0.008985" />
      </geometry>
    </collision>
    <collision>
      <origin rpy="0 0 0" xyz="0 0 -0.01584" />
      <geometry>
        <sphere radius="0.008985" />
      </geometry>
    </collision>
  </link>
  <joint name="front_left_roller_8_joint" type="continuous">
    <origin rpy="0.504844208102444 -0.6016498987064662 0" xyz="-0.024940159255837736 0.02972252439301634 0" />
    <parent link="front_left_mecanum_link" />
    <child link="front_left_roller_8" />
    <axis xyz="0.0 0.0 1.0" />
  </joint>
  <link name="rear_right_mecanum_link">
    <inertial>
      <origin rpy="0 1.5707963267948966 0" xyz="0 0 0" />
      <mass value="0.136" />
      <inertia ixx="7.117696e-05" ixy="0.0" ixz="0.0" iyy="7.117696e-05" iyz="0.0" izz="0.00010236992" />
    </inertial>
    <visual>
      <origin rpy="0 0 0" xyz="0 0 0" />
      <geometry>
        <mesh filename="package://robot_description/meshes/mec_hub_2.stl" scale="0.001 0.001 0.001" />
      </geometry>
      <material name="orange" />
    </visual>
    <collision>
      <origin rpy="0 0 0" xyz="0 0 0" />
      <geometry>
        <cylinder length="0.042" radius="0.0388" />
      </geometry>
    </collision>
  </link>
  <joint name="rear_right_mecanum_joint" type="continuous">
    <origin rpy="0 -1.5707963267948966 0" xyz="0.108 -0.145 -0.121" />
    <parent link="chassis_link" />
    <child link="rear_right_mecanum_link" />
    <axis xyz="0.0 0.0 1.0" />
  </joint>
  <link name="rear_right_roller_0">
    <visual>
      <origin rpy="0 0 0" xyz="0 0 0" />
      <geometry>
        <mesh filename="package://robot_description/meshes/roller.stl" scale="0.001 0.001 0.001" />
      </geometry>
      <material name="grey" />
    </visual>
    <collision>
      <origin rpy="0 0 0" xyz="0 0 0" />
      <geometry>
        <sphere radius="0.0097" />
      </geometry>
    </collision>
    <collision>
      <origin rpy="0 0 0" xyz="0 0 0.00792" />
      <geometry>
        <sphere radius="0.00952" />
      </geometry>
    </collision>
    <collision>
      <origin rpy="0 0 0" xyz="0 0 -0.00792" />
      <geometry>
        <sphere radius="0.00952" />
      </geometry>
    </collision>
    <collision>
      <origin rpy="0 0 0" xyz="0 0 0.01584" />
      <geometry>
        <sphere radius="0.008985" />
      </geometry>
    </collision>
    <collision>
      <origin rpy="0 0 0" xyz="0 0 -0.01584" />
      <geometry>
        <sphere radius="0.008985" />
      </geometry>
    </collision>
  </link>
  <joint name="rear_right_roller_0_joint" type="continuous">
    <origin rpy="-0.0 -0.7853981633974483 0" xyz="0.0 0.0388 0" />
    <parent link="rear_right_mecanum_link" />
    <child link="rear_right_roller_0" />
    <axis xyz="0.0 0.0 1.0" />
  </joint>
  <link name="rear_right_roller_1">
    <visual>
      <origin rpy="0 0 0" xyz="0 0 0" />
      <geometry>
        <mesh filename="package://robot_description/meshes/roller.stl" scale="0.001 0.001 0.001" />
      </geometry>
      <material name="grey" />
    </visual>
    <collision>
      <origin rpy="0 0 0" xyz="0 0 0" />
      <geometry>
        <sphere radius="0.0097" />
      </geometry>
    </collision>
    <collision>
      <origin rpy="0 0 0" xyz="0 0 0.00792" />
      <geometry>
        <sphere radius="0.00952" />
      </geometry>
    </collision>
    <collision>
      <origin rpy="0 0 0" xyz="0 0 -0.00792" />
      <geometry>
        <sphere radius="0.00952" />
      </geometry>
    </collision>
    <collision>
      <origin rpy="0 0 0" xyz="0 0 0.01584" />
      <geometry>
        <sphere radius="0.008985" />
      </geometry>
    </collision>
    <collision>
      <origin rpy="0 0 0" xyz="0 0 -0.01584" />
      <geometry>
        <sphere radius="0.008985" />
      </geometry>
    </collision>
  </link>
  <joint name="rear_right_roller_1_joint" type="continuous">
    <origin rpy="-0.5048442081024438 -0.6016498987064663 0" xyz="0.024940159255837722 0.02972252439301635 0" />
    <parent link="rear_right_mecanum_link" />
    <child link="rear_right_roller_1" />
    <axis xyz="0.0 0.0 1.0" />
  </joint>
  <link name="rear_right_roller_2">
    <visual>
      <origin rpy="0 0 0" xyz="0 0 0" />
      <geometry>
        <mesh filename="package://robot_description/meshes/roller.stl" scale="0.001 0.001 0.001" />
      </geometry>
      <material name="grey" />
    </visual>
    <collision>
      <origin rpy="0 0 0" xyz="0 0 0" />
      <geometry>
        <sphere radius="0.0097" />
      </geometry>
    </collision>
    <collision>
      <origin rpy="0 0 0" xyz="0 0 0.00792" />
      <geometry>
        <sphere radius="0.00952" />
      </geometry>
    </collision>
    <collision>
      <origin rpy="0 0 0" xyz="0 0 -0.00792" />
      <geometry>
        <sphere radius="0.00952" />
      </geometry>
    </collision>
    <collision>
      <origin rpy="0 0 0" xyz="0 0 0.01584" />
      <geometry>
        <sphere radius="0.008985" />
      </geometry>
    </collision>
    <collision>
      <origin rpy="0 0 0" xyz="0 0 -0.01584" />
      <geometry>
        <sphere radius="0.008985" />
      </geometry>
    </collision>
  </link>
  <joint name="rear_right_roller_2_joint" type="continuous">
    <origin rpy="-0.7734662005153561 -0.13638295981692095 0" xyz="0.038210540816873674 0.0067375492934769006 0" />
    <parent link="rear_right_mecanum_link" />
    <child link="rear_right_roller_2" />
    <axis xyz="0.0 0.0 1.0" />
  </joint>
  <link name="rear_right_roller_3">
    <visual>
      <origin rpy="0 0 0" xyz="0 0 0" />
      <geometry>
        <mesh filename="package://robot_description/meshes/roller.stl" scale="0.001 0.001 0.001" />
      </geometry>
      <material name="grey" />
    </visual>
    <collision>
      <origin rpy="0 0 0" xyz="0 0 0" />
      <geometry>
        <sphere radius="0.0097" />
      </geometry>
    </collision>
    <collision>
      <origin rpy="0 0 0" xyz="0 0 0.00792" />
      <geometry>
        <sphere radius="0.00952" />
      </geometry>
    </collision>
    <collision>
      <origin rpy="0 0 0" xyz="0 0 -0.00792" />
      <geometry>
        <sphere radius="0.00952" />
      </geometry>
    </collision>
    <collision>
      <origin rpy="0 0 0" xyz="0 0 0.01584" />
      <geometry>
        <sphere radius="0.008985" />
      </geometry>
    </collision>
    <collision>
      <origin rpy="0 0 0" xyz="0 0 -0.01584" />
      <geometry>
        <sphere radius="0.008985" />
      </geometry>
    </collision>
  </link>
  <joint name="rear_right_roller_3_joint" type="continuous">
    <origin rpy="-0.6801747615878317 0.392699081698724 0" xyz="0.03360178566683622 -0.019399999999999994 0" />
    <parent link="rear_right_mecanum_link" />
    <child link="rear_right_roller_3" />
    <axis xyz="0.0 0.0 1.0" />
  </joint>
  <link name="rear_right_roller_4">
    <visual>
      <origin rpy="0 0 0" xyz="0 0 0" />
      <geometry>
        <mesh filename="package://robot_description/meshes/roller.stl" scale="0.001 0.001 0.001" />
      </geometry>
      <material name="grey" />
    </visual>
    <collision>
      <origin rpy="0 0 0" xyz="0 0 0" />
      <geometry>
        <sphere radius="0.0097" />
      </geometry>
    </collision>
    <collision>
      <origin rpy="0 0 0" xyz="0 0 0.00792" />
      <geometry>
        <sphere radius="0.00952" />
      </geometry>
    </collision>
    <collision>
      <origin rpy="0 0 0" xyz="0 0 -0.00792" />
      <geometry>
        <sphere radius="0.00952" />
      </geometry>
    </collision>
    <collision>
      <origin rpy="0 0 0" xyz="0 0 0.01584" />
      <geometry>
        <sphere radius="0.008985" />
      </geometry>
    </collision>
    <collision>
      <origin rpy="0 0 0" xyz="0 0 -0.01584" />
      <geometry>
        <sphere radius="0.008985" />
      </geometry>
    </collision>
  </link>
  <joint name="rear_right_roller_4_joint" type="continuous">
    <origin rpy="-0.26862199241291235 0.7380328585233872 0" xyz="0.013270381561035953 -0.03646007368649325 0" />
    <parent link="rear_right_mecanum_link" />
    <child link="rear_right_roller_4" />
    <axis xyz="0.0 0.0 1.0" />
  </joint>
  <link name="rear_right_roller_5">
    <visual>
      <origin rpy="0 0 0" xyz="0 0 0" />
      <geometry>
        <mesh filename="package://robot_description/meshes/roller.stl" scale="0.001 0.001 0.001" />
      </geometry>
      <material name="grey" />
    </visual>
    <collision>
      <origin rpy="0 0 0" xyz="0 0 0" />
      <geometry>
        <sphere radius="0.0097" />
      </geometry>
    </collision>
    <collision>
      <origin rpy="0 0 0" xyz="0 0 0.00792" />
      <geometry>
        <sphere radius="0.00952" />
      </geometry>
    </collision>
    <collision>
      <origin rpy="0 0 0" xyz="0 0 -0.00792" />
      <geometry>
        <sphere radius="0.00952" />
      </geometry>
    </collision>
    <collision>
      <origin rpy="0 0 0" xyz="0 0 0.01584" />
      <geometry>
        <sphere radius="0.008985" />
      </geometry>
    </collision>
    <collision>
      <origin rpy="0 0 0" xyz="0 0 -0.01584" />
      <geometry>
        <sphere radius="0.008985" />
      </geometry>
    </collision>
  </link>
  <joint name="rear_right_roller_5_joint" type="continuous">
    <origin rpy="0.2686219924129122 0.7380328585233873 0" xyz="-0.013270381561035945 -0.03646007368649325 0" />
    <parent link="rear_right_mecanum_link" />
    <child link="rear_right_roller_5" />
    <axis xyz="0.0 0.0 1.0" />
  </joint>
  <link name="rear_right_roller_6">
    <visual>
      <origin rpy="0 0 0" xyz="0 0 0" />
      <geometry>
        <mesh filename="package://robot_description/meshes/roller.stl" scale="0.001 0.001 0.001" />
      </geometry>
      <material name="grey" />
    </visual>
    <collision>
      <origin rpy="0 0 0" xyz="0 0 0" />
      <geometry>
        <sphere radius="0.0097" />
      </geometry>
    </collision>
    <collision>
      <origin rpy="0 0 0" xyz="0 0 0.00792" />
      <geometry>
        <sphere radius="0.00952" />
      </geometry>
    </collision>
    <collision>
      <origin rpy="0 0 0" xyz="0 0 -0.00792" />
      <geometry>
        <sphere radius="0.00952" />
      </geometry>
    </collision>
    <collision>
      <origin rpy="0 0 0" xyz="0 0 0.01584" />
      <geometry>
        <sphere radius="0.008985" />
      </geometry>
    </collision>
    <collision>
      <origin rpy="0 0 0" xyz="0 0 -0.01584" />
      <geometry>
        <sphere radius="0.008985" />
      </geometry>
    </collision>
  </link>
  <joint name="rear_right_roller_6_joint" type="continuous">
    <origin rpy="0.6801747615878314 0.3926990816987245 0" xyz="-0.03360178566683621 -0.019400000000000018 0" />
    <parent link="rear_right_mecanum_link" />
    <child link="rear_right_roller_6" />
    <axis xyz="0.0 0.0 1.0" />
  </joint>
  <link name="rear_right_roller_7">
    <visual>
      <origin rpy="0 0 0" xyz="0 0 0" />
      <geometry>
        <mesh filename="package://robot_description/meshes/roller.stl" scale="0.001 0.001 0.001" />
      </geometry>
      <material name="grey" />
    </visual>
    <collision>
      <origin rpy="0 0 0" xyz="0 0 0" />
      <geometry>
        <sphere radius="0.0097" />
      </geometry>
    </collision>
    <collision>
      <origin rpy="0 0 0" xyz="0 0 0.00792" />
      <geometry>
        <sphere radius="0.00952" />
      </geometry>
    </collision>
    <collision>
      <origin rpy="0 0 0" xyz="0 0 -0.00792" />
      <geometry>
        <sphere radius="0.00952" />
      </geometry>
    </collision>
    <collision>
      <origin rpy="0 0 0" xyz="0 0 0.01584" />
      <geometry>
        <sphere radius="0.008985" />
      </geometry>
    </collision>
    <collision>
      <origin rpy="0 0 0" xyz="0 0 -0.01584" />
      <geometry>
        <sphere radius="0.008985" />
      </geometry>
    </collision>
  </link>
  <joint name="rear_right_roller_7_joint" type="continuous">
    <origin rpy="0.7734662005153561 -0.13638295981692058 0" xyz="-0.038210540816873674 0.006737549293476883 0" />
    <parent link="rear_right_mecanum_link" />
    <child link="rear_right_roller_7" />
    <axis xyz="0.0 0.0 1.0" />
  </joint>
  <link name="rear_right_roller_8">
    <visual>
      <origin rpy="0 0 0" xyz="0 0 0" />
      <geometry>
        <mesh filename="package://robot_description/meshes/roller.stl" scale="0.001 0.001 0.001" />
      </geometry>
      <material name="grey" />
    </visual>
    <collision>
      <origin rpy="0 0 0" xyz="0 0 0" />
      <geometry>
        <sphere radius="0.0097" />
      </geometry>
    </collision>
    <collision>
      <origin rpy="0 0 0" xyz="0 0 0.00792" />
      <geometry>
        <sphere radius="0.00952" />
      </geometry>
    </collision>
    <collision>
      <origin rpy="0 0 0" xyz="0 0 -0.00792" />
      <geometry>
        <sphere radius="0.00952" />
      </geometry>
    </collision>
    <collision>
      <origin rpy="0 0 0" xyz="0 0 0.01584" />
      <geometry>
        <sphere radius="0.008985" />
      </geometry>
    </collision>
    <collision>
      <origin rpy="0 0 0" xyz="0 0 -0.01584" />
      <geometry>
        <sphere radius="0.008985" />
      </geometry>
    </collision>
  </link>
  <joint name="rear_right_roller_8_joint" type="continuous">
    <origin rpy="0.504844208102444 -0.6016498987064662 0" xyz="-0.024940159255837736 0.02972252439301634 0" />
    <parent link="rear_right_mecanum_link" />
    <child link="rear_right_roller_8" />
    <axis xyz="0.0 0.0 1.0" />
  </joint>
</robot>
